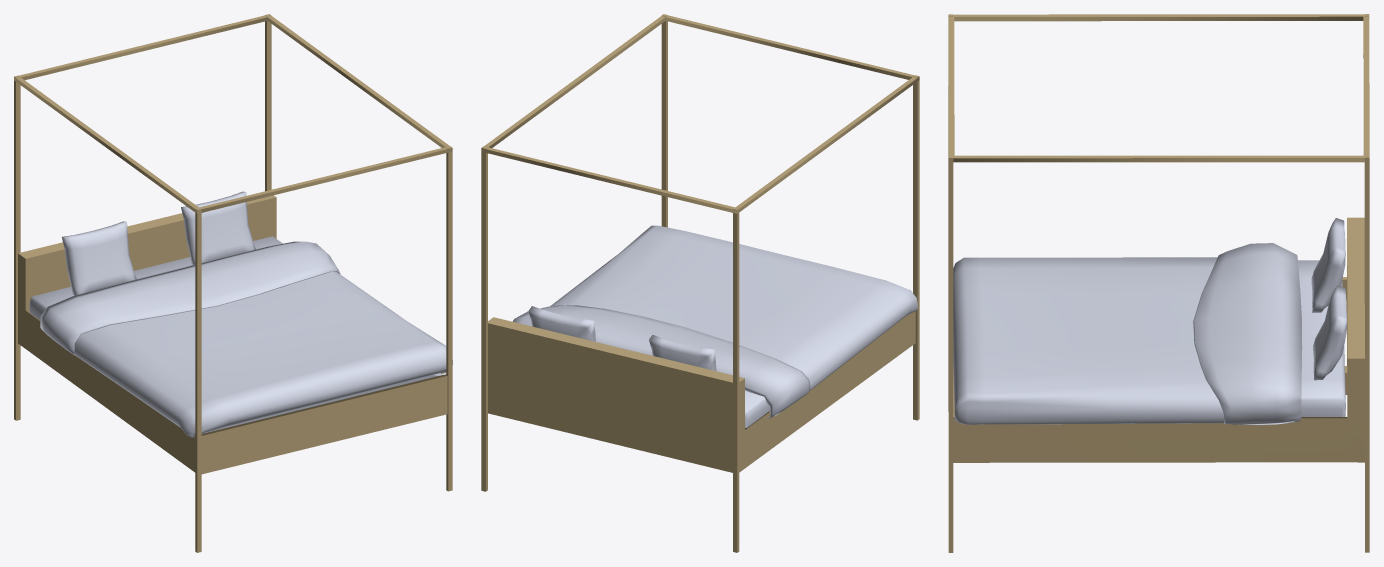
Rendered from IKEA-Hemnes_Bed_160-3D.obj.
The picture shows the model from 3 angles, left to right: view 1: azimuth 30°, elevation 25°; view 2: azimuth 150°, elevation 25°; view 3: azimuth 270°, elevation 25°; orthographic projection. The views are drawn at different scales.
Visible parts, largest first — view 1: Object02, Box02, Box06, Box05, Object01; view 2: Box02, Object02, Box06, Box05, Object01; view 3: Object02, Box02, Object01, Box05, Box06.
Boxes of the visible parts, <box> form: Object02: <box>40,241,452,438</box>; Box02: <box>14,14,452,552</box>; Box06: <box>62,221,136,295</box>; Box05: <box>181,191,255,264</box>; Object01: <box>29,236,438,433</box>; Box02: <box>481,14,919,552</box>; Object02: <box>513,225,918,418</box>; Box06: <box>649,334,716,371</box>; Box05: <box>528,306,595,341</box>; Object01: <box>745,391,769,427</box>; Object02: <box>953,243,1302,425</box>; Box02: <box>948,14,1369,552</box>; Object01: <box>1298,260,1345,416</box>; Box05: <box>1313,285,1346,380</box>; Box06: <box>1311,218,1345,312</box>.
Size of the model in its own units: 1795 by 2100 by 2031.
